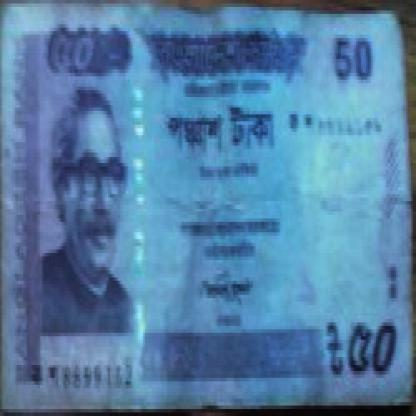Fifty taka: (344, 326, 400, 399), (53, 21, 97, 76)
